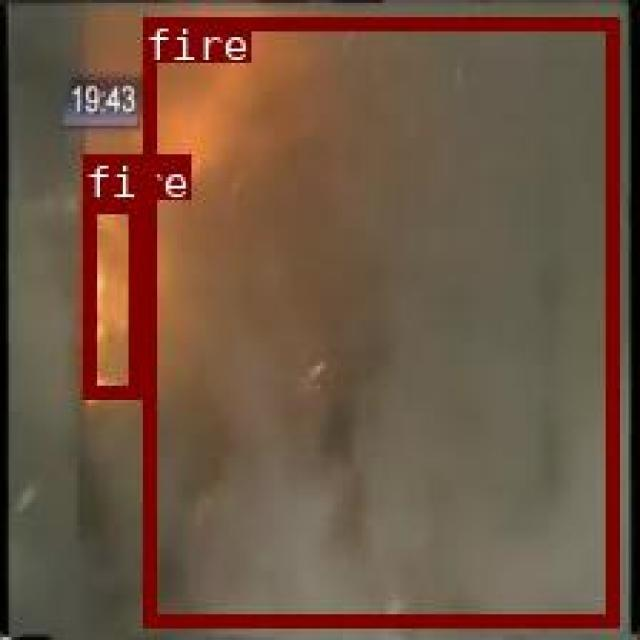fire: (141, 15, 616, 625), (80, 198, 139, 396)
